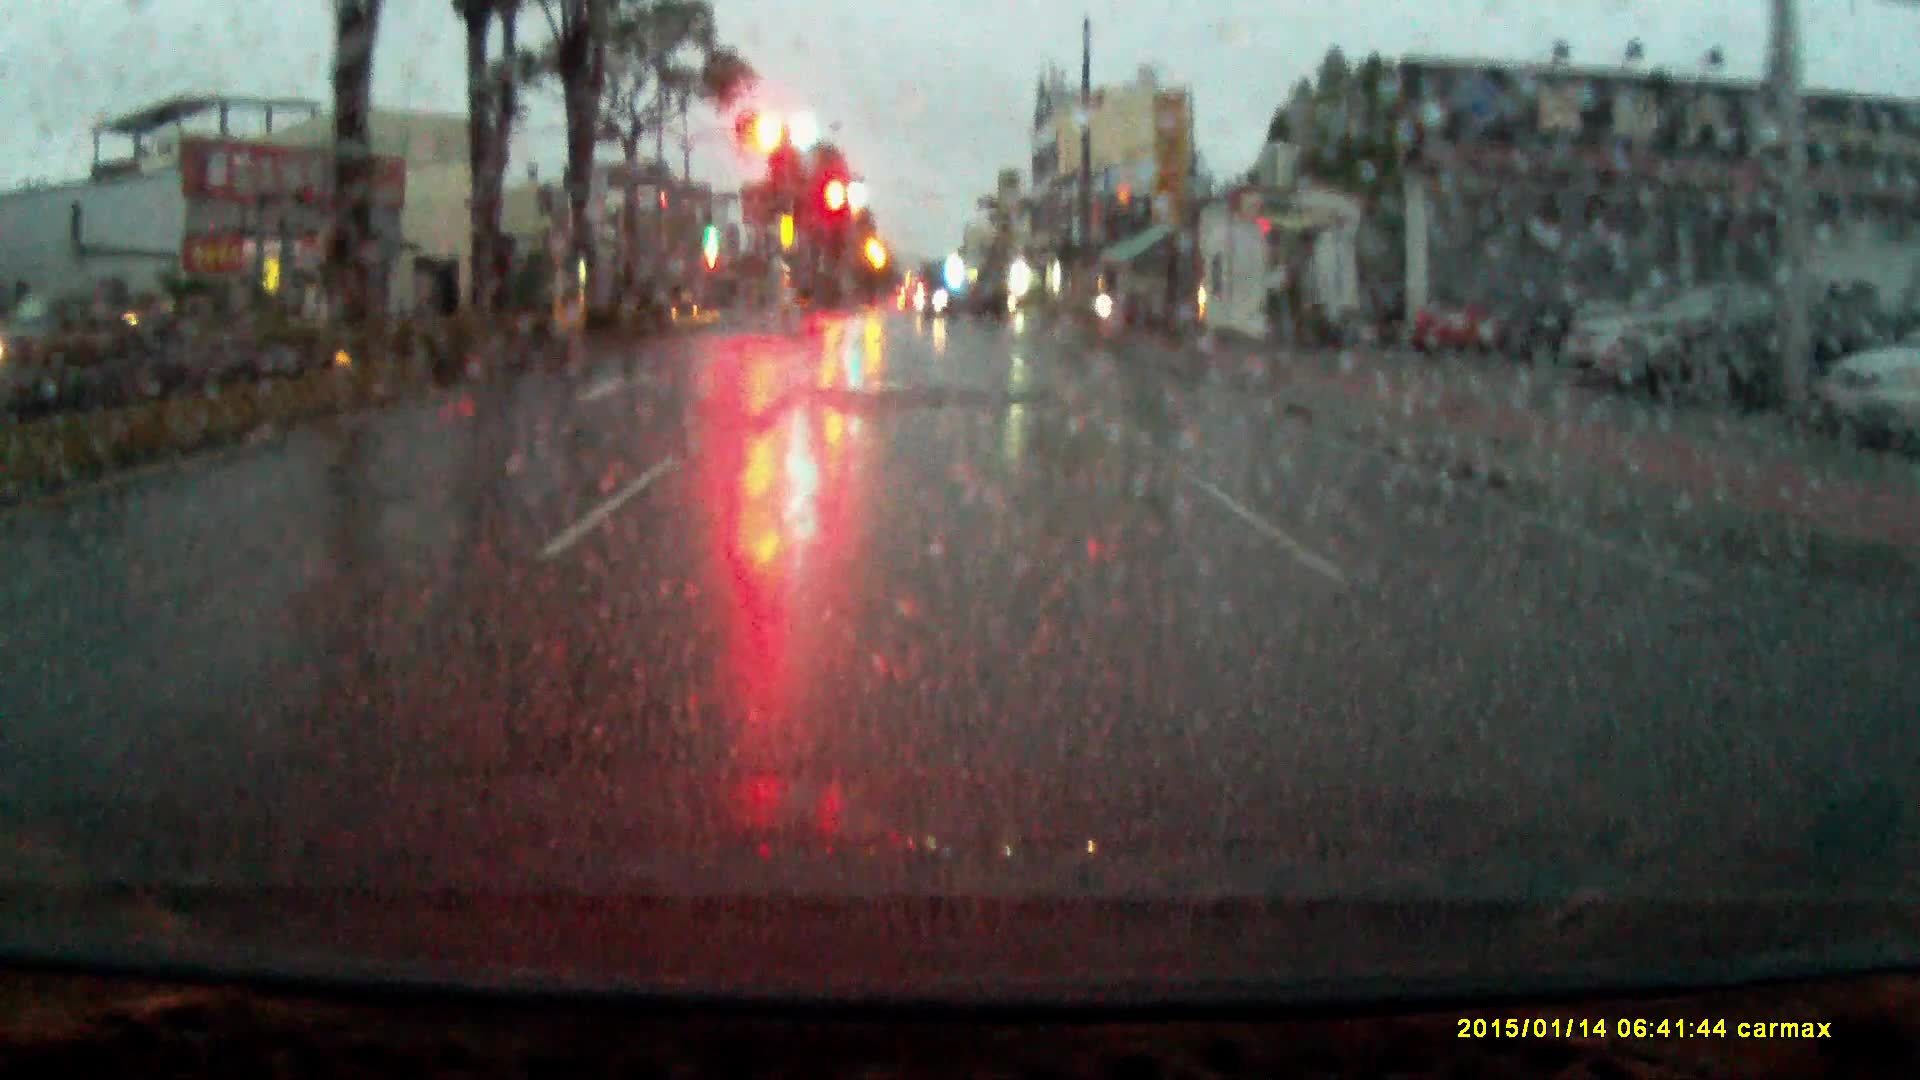vehicle: (1564, 280, 1857, 405), (1658, 281, 1888, 421), (916, 280, 1007, 323)
